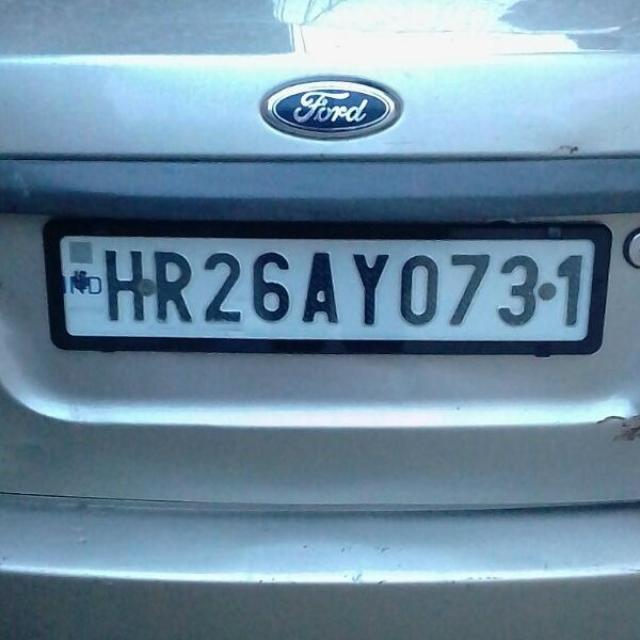plate: (40, 220, 615, 357)
